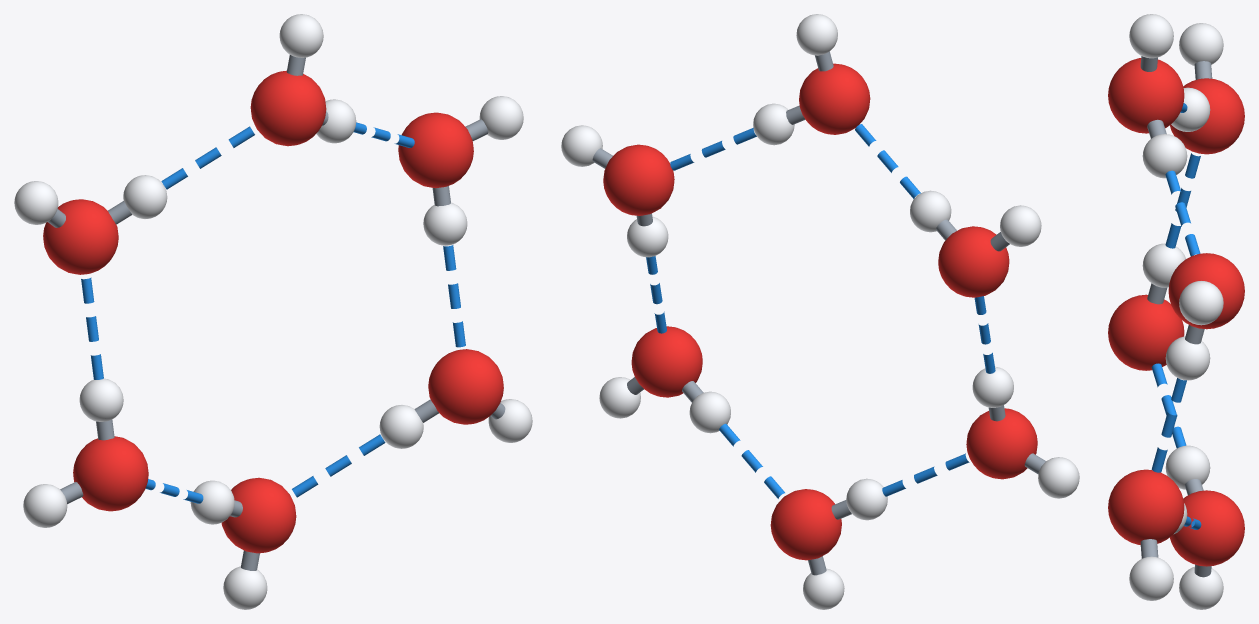
Rendered from water_cyclic_hexamer_3d.glb.
3 views of the same model, side by side, from view 1: azimuth 30°, elevation 25°; view 2: azimuth 150°, elevation 25°; view 3: azimuth 270°, elevation 25° (orthographic). The views are drawn at different scales.
Visible parts, largest first — view 1: Oxygen_3, Oxygen_1, Oxygen_5, Oxygen_2, Oxygen_6, Oxygen_4, Hydrogen_2_free, Hydrogen_10_free, Hydrogen_12_free, Hydrogen_9_donor, Hydrogen_11_donor, Hydrogen_5_donor (+6 smaller); view 2: Oxygen_2, Oxygen_1, Oxygen_4, Oxygen_3, Oxygen_6, Oxygen_5, Hydrogen_12_free, Hydrogen_2_free, Hydrogen_10_free, Hydrogen_7_donor, Hydrogen_5_donor, Hydrogen_9_donor (+6 smaller); view 3: Oxygen_3, Oxygen_1, Oxygen_5, Oxygen_4, Oxygen_6, Oxygen_2, Hydrogen_2_free, Hydrogen_4_free, Hydrogen_6_free, Hydrogen_1_donor, Hydrogen_12_free, Hydrogen_3_donor (+22 smaller).
Boxes of the visible parts, x1=… form: Oxygen_3: x1=428, y1=349, x2=503, y2=424; Oxygen_1: x1=250, y1=70, x2=326, y2=146; Oxygen_5: x1=73, y1=436, x2=148, y2=511; Oxygen_2: x1=398, y1=112, x2=473, y2=188; Oxygen_6: x1=43, y1=199, x2=118, y2=274; Oxygen_4: x1=221, y1=477, x2=296, y2=553; Hydrogen_2_free: x1=279, y1=14, x2=323, y2=57; Hydrogen_10_free: x1=23, y1=484, x2=67, y2=527; Hydrogen_12_free: x1=14, y1=181, x2=58, y2=224; Hydrogen_9_donor: x1=79, y1=378, x2=123, y2=421; Hydrogen_11_donor: x1=123, y1=175, x2=167, y2=218; Hydrogen_5_donor: x1=379, y1=405, x2=423, y2=448; Oxygen_2: x1=603, y1=144, x2=674, y2=215; Oxygen_1: x1=799, y1=63, x2=870, y2=134; Oxygen_4: x1=770, y1=489, x2=841, y2=560; Oxygen_3: x1=631, y1=326, x2=702, y2=397; Oxygen_6: x1=938, y1=226, x2=1009, y2=297; Oxygen_5: x1=966, y1=408, x2=1037, y2=479; Hydrogen_12_free: x1=1000, y1=205, x2=1041, y2=246; Hydrogen_2_free: x1=796, y1=14, x2=837, y2=55; Hydrogen_10_free: x1=1038, y1=457, x2=1079, y2=498; Hydrogen_7_donor: x1=846, y1=478, x2=887, y2=520; Hydrogen_5_donor: x1=689, y1=391, x2=730, y2=433; Hydrogen_9_donor: x1=972, y1=366, x2=1013, y2=407; Oxygen_3: x1=1108, y1=469, x2=1184, y2=544; Oxygen_1: x1=1108, y1=58, x2=1184, y2=133; Oxygen_5: x1=1108, y1=294, x2=1184, y2=370; Oxygen_4: x1=1170, y1=490, x2=1244, y2=566; Oxygen_6: x1=1170, y1=78, x2=1244, y2=154; Oxygen_2: x1=1168, y1=253, x2=1244, y2=329; Hydrogen_2_free: x1=1129, y1=14, x2=1173, y2=58; Hydrogen_4_free: x1=1179, y1=281, x2=1223, y2=325; Hydrogen_6_free: x1=1129, y1=556, x2=1173, y2=600; Hydrogen_1_donor: x1=1142, y1=134, x2=1187, y2=178; Hydrogen_12_free: x1=1179, y1=23, x2=1223, y2=65; Hydrogen_3_donor: x1=1165, y1=336, x2=1210, y2=380.
Size of the model in its own units: 7.6 by 8.42 by 1.72.
